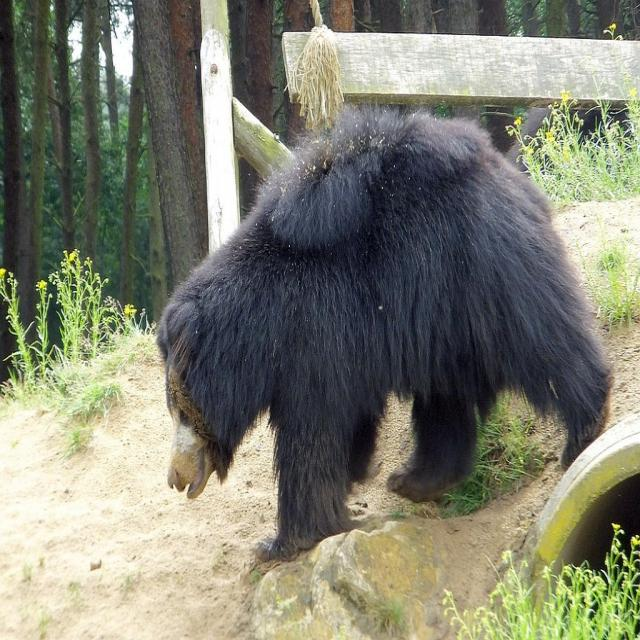Bear: (156, 101, 614, 564)
